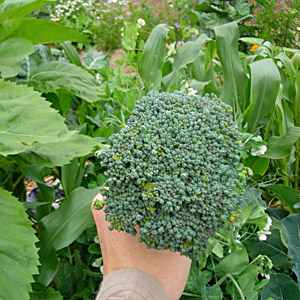broccoli: (92, 92, 247, 261)
